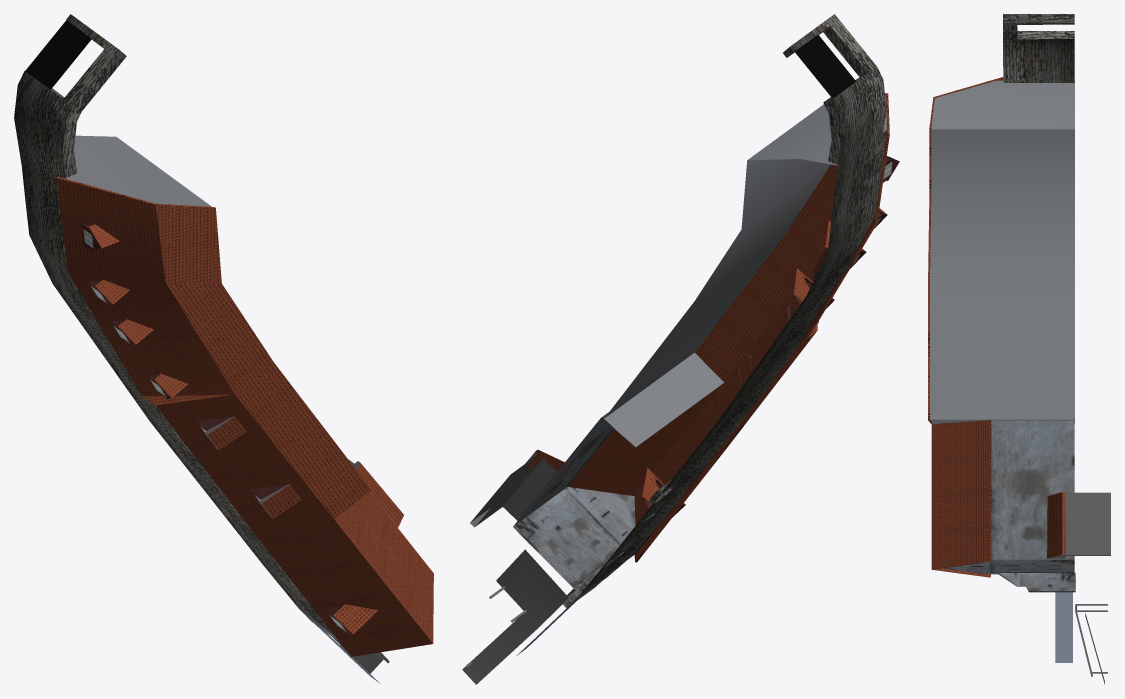
Rendered from Aida 8 10.obj.
3 views of the same model, side by side, from view 1: azimuth 30°, elevation 25°; view 2: azimuth 150°, elevation 25°; view 3: azimuth 270°, elevation 25° (orthographic). The views are drawn at different scales.
Parts seen in each view (by area): view 1: Aida_8_10; view 2: Aida_8_10; view 3: Aida_8_10.
Part boxes in pixels (<box>): Aida_8_10: <box>14,14,433,683</box>; Aida_8_10: <box>462,14,899,684</box>; Aida_8_10: <box>928,14,1110,684</box>.
Bounding box in the file's own units: 27.06 × 49.27 × 14.67.
